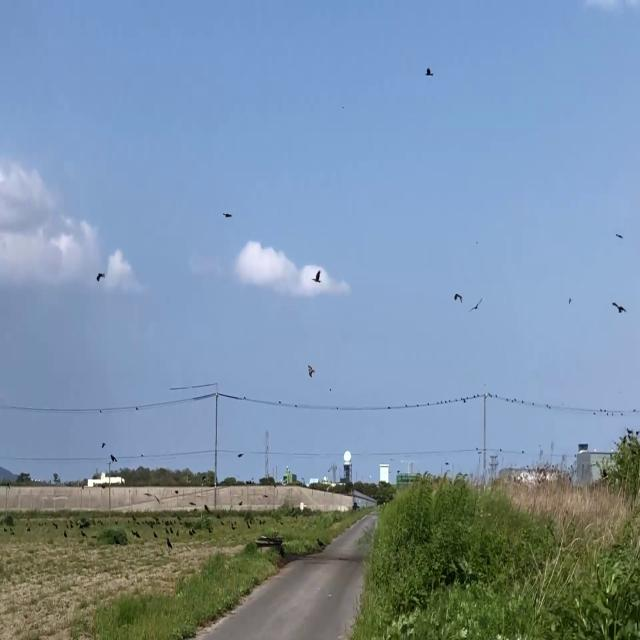bird: (612, 295, 626, 319), (471, 295, 482, 316), (97, 264, 104, 287), (454, 287, 462, 307), (314, 263, 320, 289), (427, 62, 432, 84), (166, 532, 171, 551), (238, 448, 244, 462), (64, 526, 67, 540), (153, 527, 156, 541)
